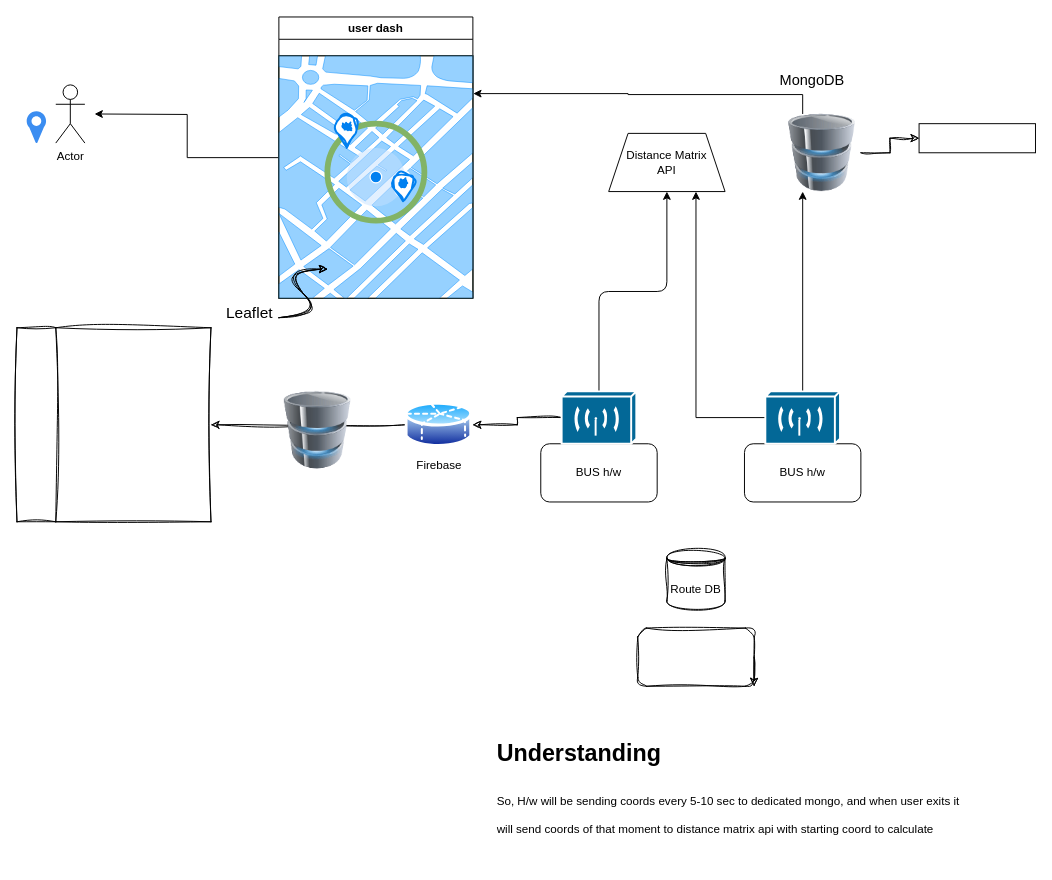
Some shapes in this 1052 by 880 pixel diagram are drawn without their labels. The centre of each missing label's shape, as x and y in pixels:
"Co-ordinates" belongs at pixel 976 138.
"MongoDibba" belongs at pixel 317 430.
"This will contain all routes of buses with bus id" belongs at pixel 695 656.
"User dash for related details" belongs at pixel 113 424.
